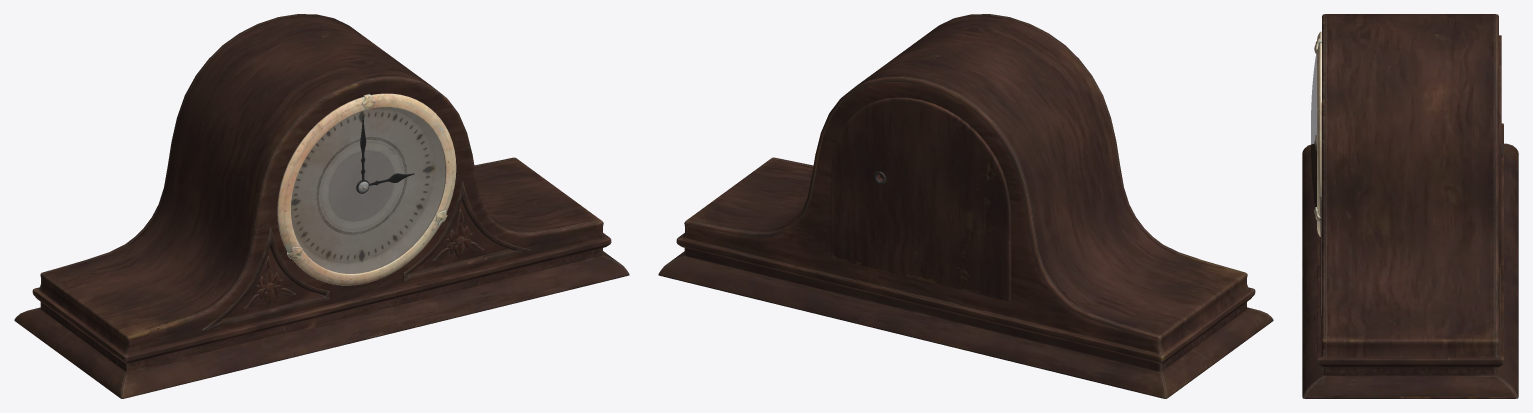
The model's file is mantel_clock_01.glb.
The picture shows the model from 3 angles, left to right: view 1: azimuth 30°, elevation 25°; view 2: azimuth 150°, elevation 25°; view 3: azimuth 270°, elevation 25°; orthographic projection.
Visible parts, largest first — view 1: mantel_clock_01, mantel_clock_01_glass; view 2: mantel_clock_01; view 3: mantel_clock_01, mantel_clock_01_glass.
Part boxes in pixels (x1,y1,x2,y2): mantel_clock_01: (14,14,629,398); mantel_clock_01_glass: (291,107,445,273); mantel_clock_01: (658,14,1273,398); mantel_clock_01: (1302,14,1518,398); mantel_clock_01_glass: (1311,53,1316,207).
Size of the model in its own units: 0.3423 by 0.1605 by 0.1262.
2 materials, 2 textured.
